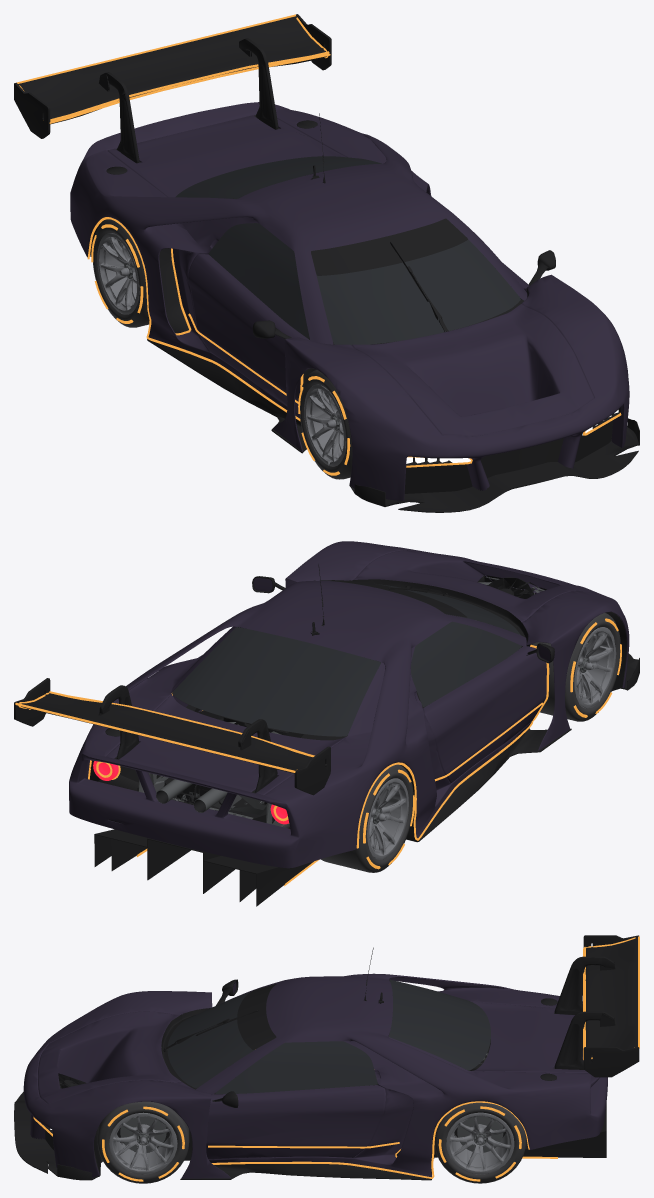
File: vanta_rig.glb
3 views of the same model, one above another, from view 1: azimuth 30°, elevation 25°; view 2: azimuth 150°, elevation 25°; view 3: azimuth 270°, elevation 25° (orthographic). The views are drawn at different scales.
Parts seen in each view (by area): view 1: Body_mesh, Wheel_RR_mesh, Wheel_FR_mesh; view 2: Body_mesh, Wheel_FR_mesh, Wheel_RR_mesh; view 3: Body_mesh, Wheel_FL_mesh, Wheel_RL_mesh.
Boxes of the visible parts, x1=… form: Body_mesh: x1=14, y1=14, x2=639, y2=512; Wheel_RR_mesh: x1=91, y1=219, x2=149, y2=327; Wheel_FR_mesh: x1=298, y1=370, x2=352, y2=479; Body_mesh: x1=14, y1=541, x2=639, y2=906; Wheel_FR_mesh: x1=532, y1=613, x2=621, y2=721; Wheel_RR_mesh: x1=321, y1=764, x2=414, y2=872; Body_mesh: x1=14, y1=935, x2=639, y2=1180; Wheel_FL_mesh: x1=97, y1=1101, x2=189, y2=1183; Wheel_RL_mesh: x1=434, y1=1102, x2=526, y2=1183.
Size of the model in its own units: 2.12 by 1.53 by 4.69.
